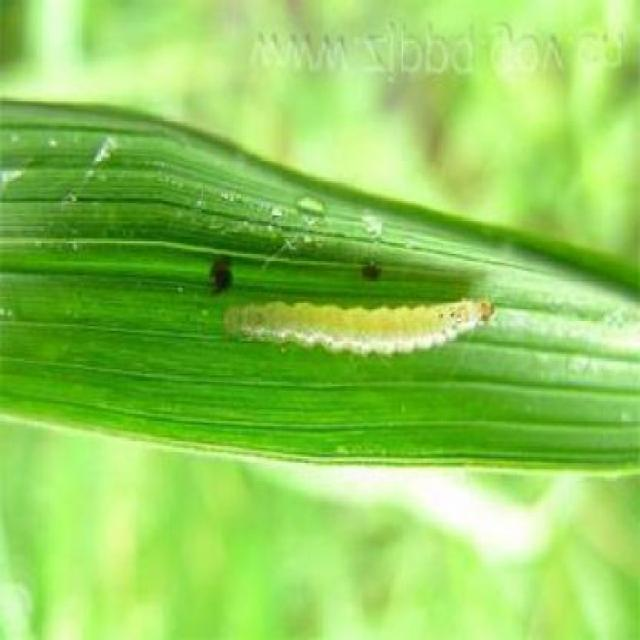leaf-folder: (212, 254, 514, 411)
